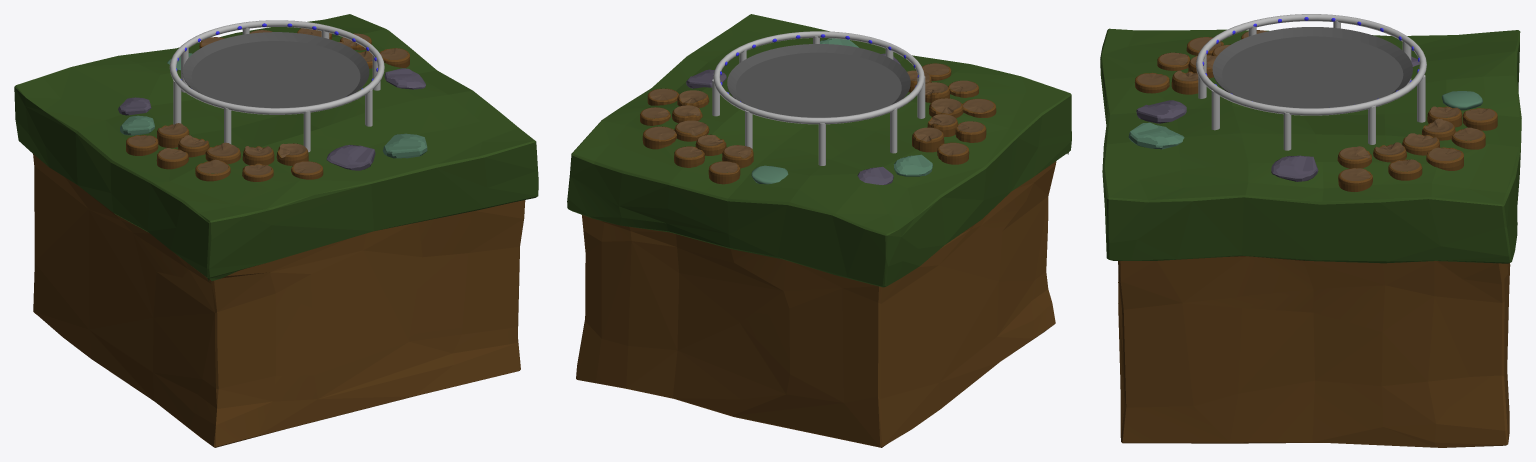
Rendered from tile_trampolin.min.gltf.
3 views of the same model, side by side, from view 1: azimuth 30°, elevation 25°; view 2: azimuth 150°, elevation 25°; view 3: azimuth 270°, elevation 25° (orthographic). The views are drawn at different scales.
Visible parts, largest first — view 1: CENTERED.002, Plane.001, Torus.001, Cylinder.006; view 2: CENTERED.002, Plane.001, Torus.001, Cylinder.006; view 3: CENTERED.002, Plane.001, Torus.001, Cylinder.006.
Boxes of the visible parts, x1,y1,x2,y2 form: CENTERED.002: (14,14,538,447); Plane.001: (182,32,369,108); Torus.001: (169,20,384,114); Cylinder.006: (173,27,380,152); CENTERED.002: (567,14,1071,447); Plane.001: (727,44,910,117); Torus.001: (713,31,924,124); Cylinder.006: (712,36,925,165); CENTERED.002: (1100,28,1521,447); Plane.001: (1212,27,1412,108); Torus.001: (1196,14,1426,115); Cylinder.006: (1198,20,1425,150).
Size of the model in its own units: 1.07 by 0.8658 by 1.09.
